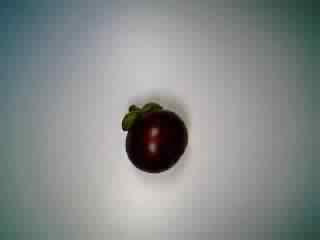mangosteen: (111, 99, 190, 177)
